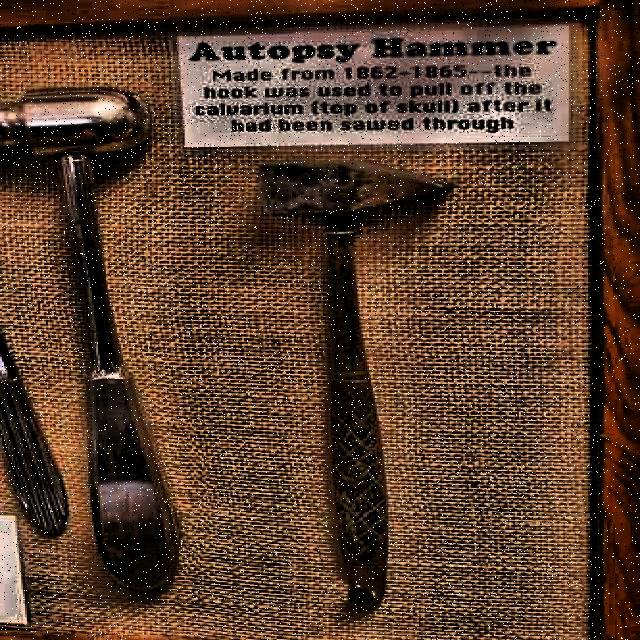hammer: (252, 158, 458, 608)
